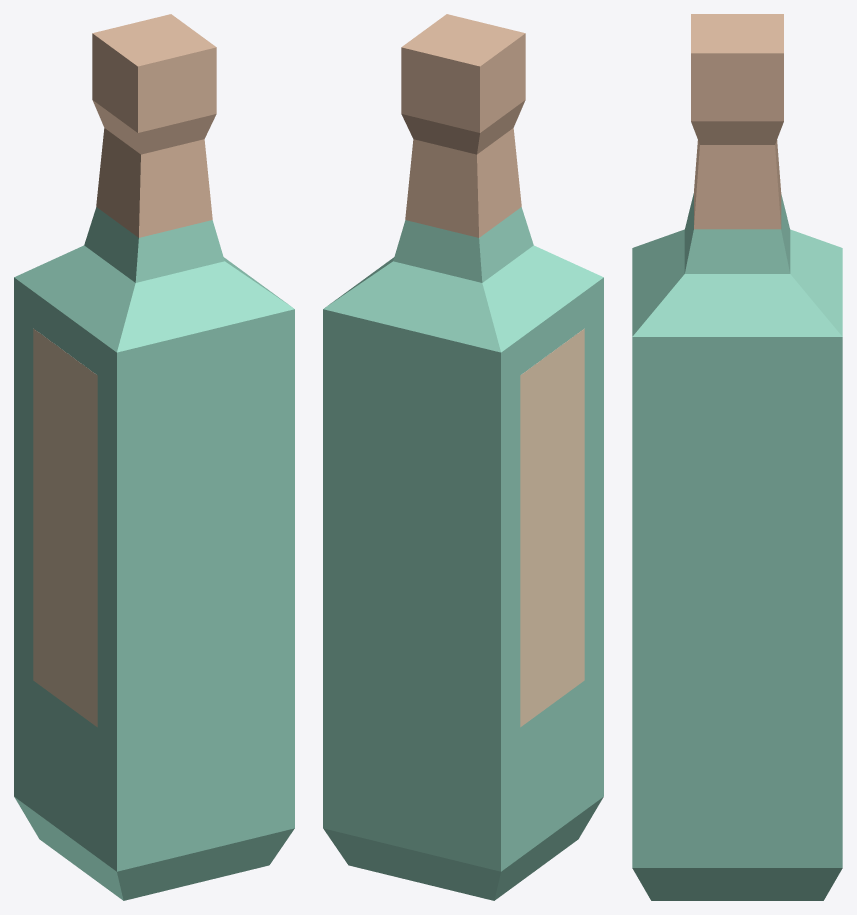
3 renders of one model, left to right at view 1: azimuth 30°, elevation 25°; view 2: azimuth 150°, elevation 25°; view 3: azimuth 270°, elevation 25°, orthographic. The views are drawn at different scales.
Parts seen in each view (by area): view 1: bottleOil; view 2: bottleOil; view 3: bottleOil.
Part boxes in pixels (box(x1,y1,x2,y2)): bottleOil: box(14, 14, 294, 900); bottleOil: box(323, 14, 603, 900); bottleOil: box(632, 14, 842, 900).
Size of the model in its own units: 0.14 by 0.61 by 0.14.
